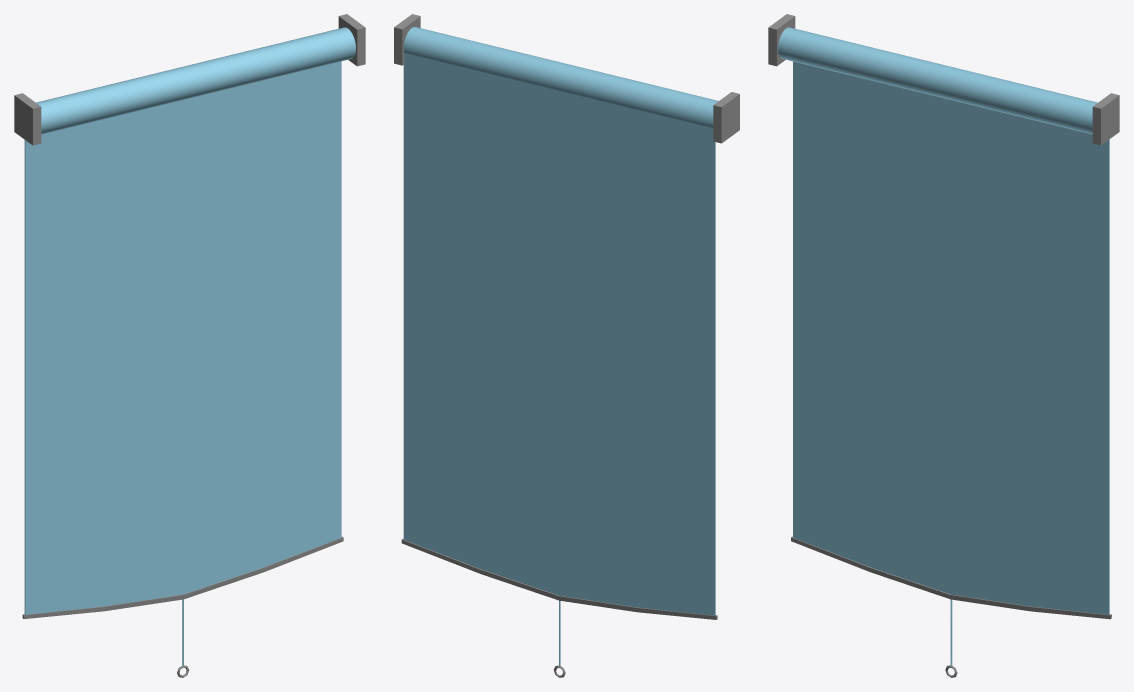
The model's file is PROPS_sunblind_01c.FBX.
3 renders of one model, left to right at view 1: azimuth 30°, elevation 25°; view 2: azimuth 150°, elevation 25°; view 3: azimuth 330°, elevation 25°, orthographic.
Parts seen in each view (by area): view 1: PROPS_sunblind_01c; view 2: PROPS_sunblind_01c; view 3: PROPS_sunblind_01c.
Part boxes in pixels (box(x1,y1,x2,y2)): PROPS_sunblind_01c: box(14, 14, 365, 677); PROPS_sunblind_01c: box(394, 14, 739, 677); PROPS_sunblind_01c: box(768, 14, 1119, 677).
Bounding box in the file's own units: 160 × 285 × 15.42.
